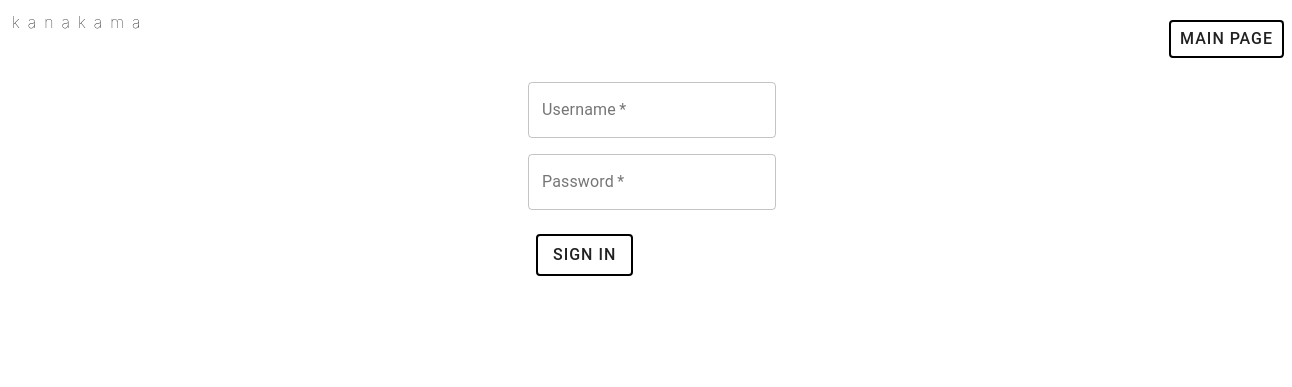
Test: SignInPage › displays an error message if an error is returned from submission
Type "testUser" into the field labelled "Username *".
click(652, 110); type("testUser")  # box [528,82,776,138]
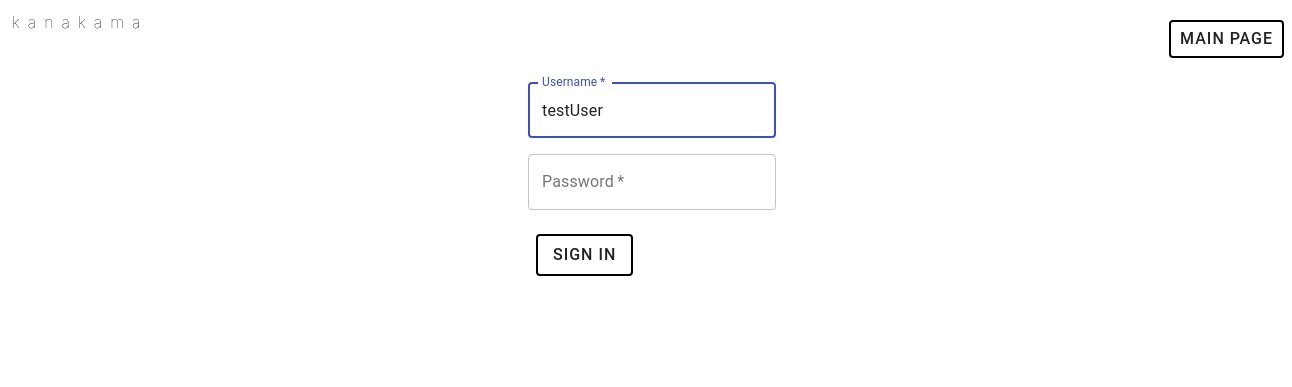
Type "testPassword" into the password field labelled "Password *".
click(652, 182); type("testPassword")  # box [528,154,776,210]
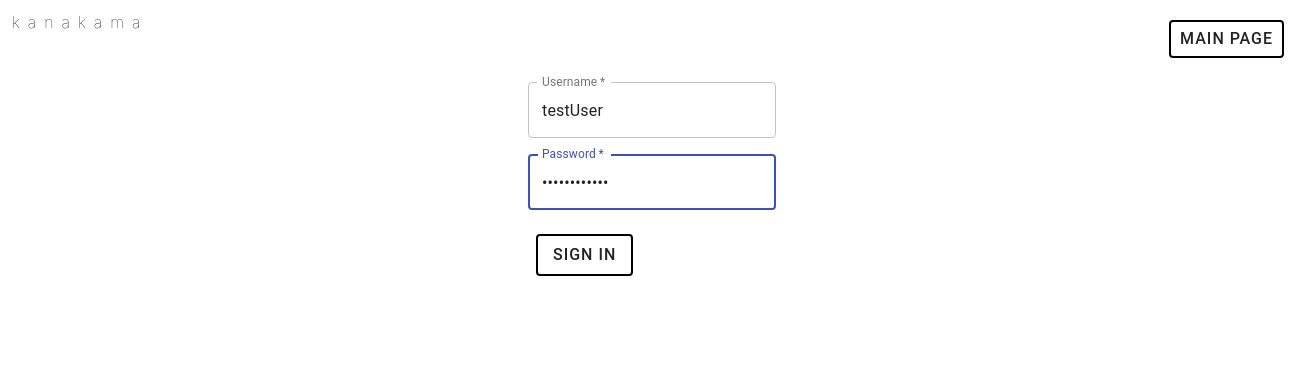
Submit the form from the button "Sign In", box [536,234,633,276]
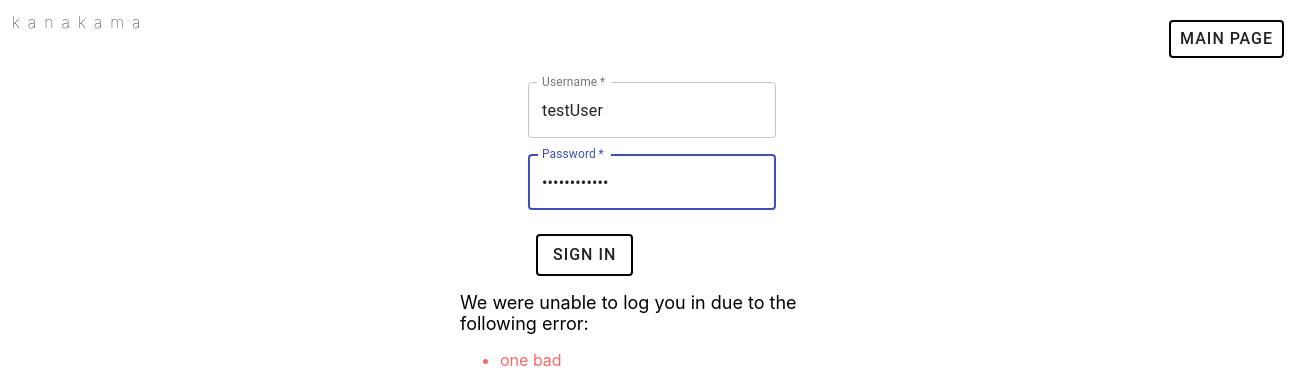
Result: the text "We were unable to log you in due to the following error:" is shown at [460,292,844,334]
Result: the list item "one bad" is shown at [500,350,562,370]
